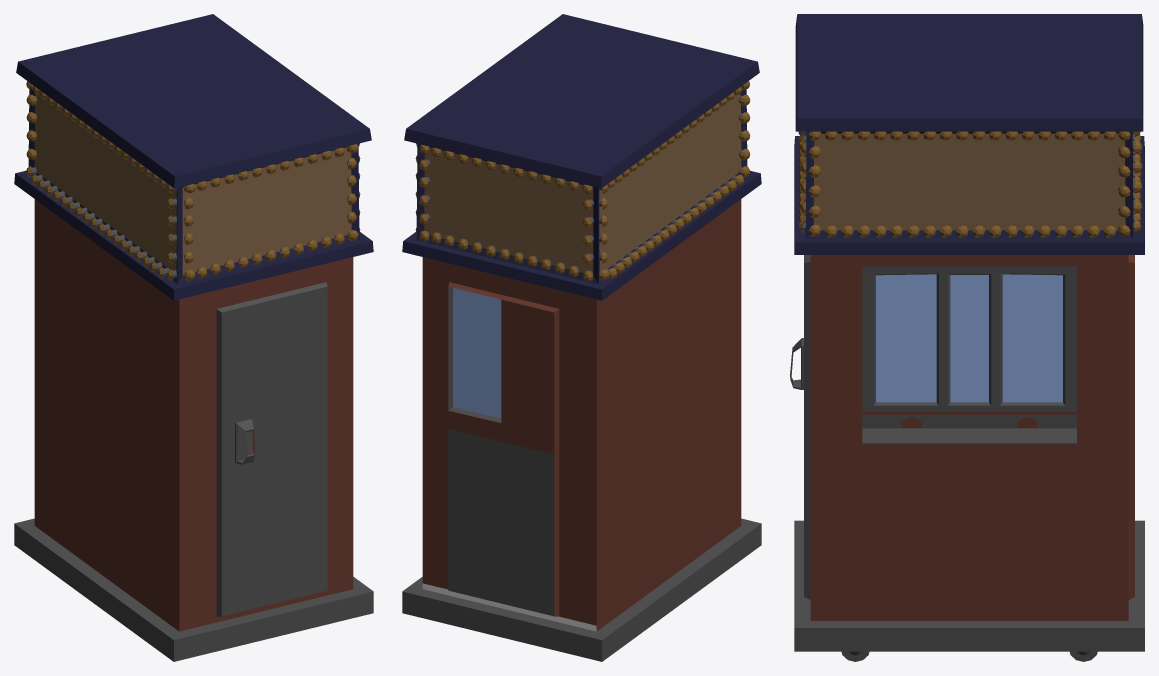
The model's file is TBooth.fbx.
3 renders of one model, left to right at view 1: azimuth 30°, elevation 25°; view 2: azimuth 150°, elevation 25°; view 3: azimuth 270°, elevation 25°, orthographic. The views are drawn at different scales.
Visible parts, largest first — view 1: caseta_ticket; view 2: caseta_ticket; view 3: caseta_ticket.
Part boxes in pixels (x1=…): caseta_ticket: x1=14, y1=14, x2=373, y2=661; caseta_ticket: x1=402, y1=14, x2=761, y2=661; caseta_ticket: x1=790, y1=14, x2=1144, y2=661.
Size of the model in its own units: 159 by 371 by 216.
